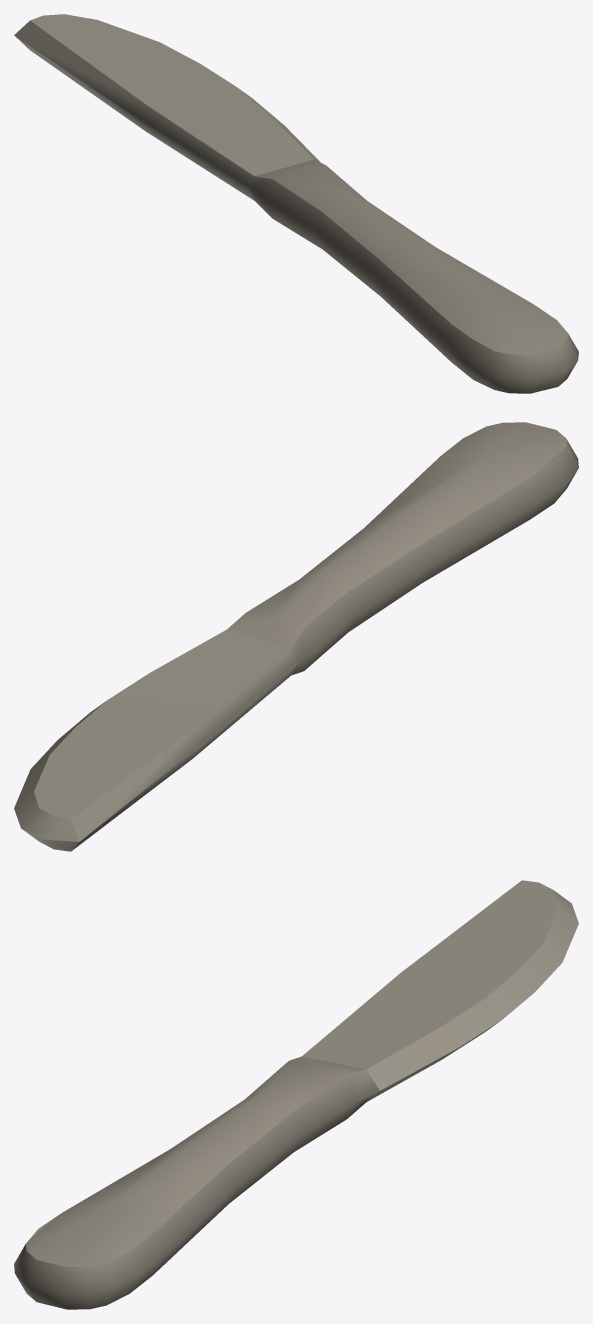
File: Knife_2_B.glb
3 renders of one model, top to bottom at view 1: azimuth 30°, elevation 25°; view 2: azimuth 150°, elevation 25°; view 3: azimuth 330°, elevation 25°, orthographic. The views are drawn at different scales.
Parts seen in each view (by area): view 1: Knife_2_B; view 2: Knife_2_B; view 3: Knife_2_B.
Part boxes in pixels (left/top/right/bottom): Knife_2_B: left=14, top=14, right=578, bottom=393; Knife_2_B: left=14, top=422, right=578, bottom=851; Knife_2_B: left=14, top=880, right=578, bottom=1309.
Bounding box in the file's own units: 0.0331 × 0.0185 × 0.2453.
Materials: 1 (1 with a texture image).
